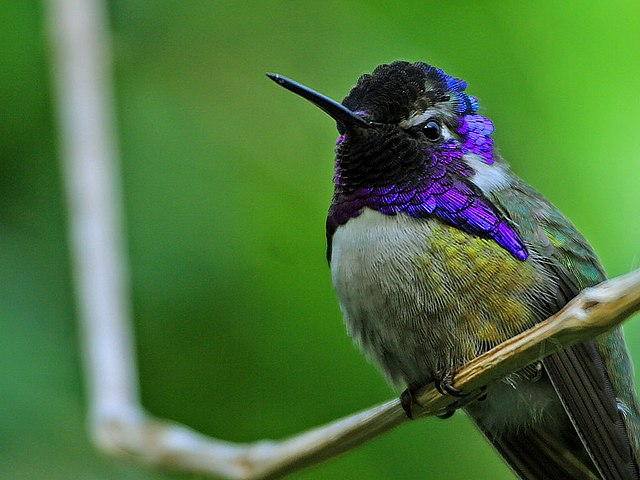calypte costae: (266, 52, 639, 479)
